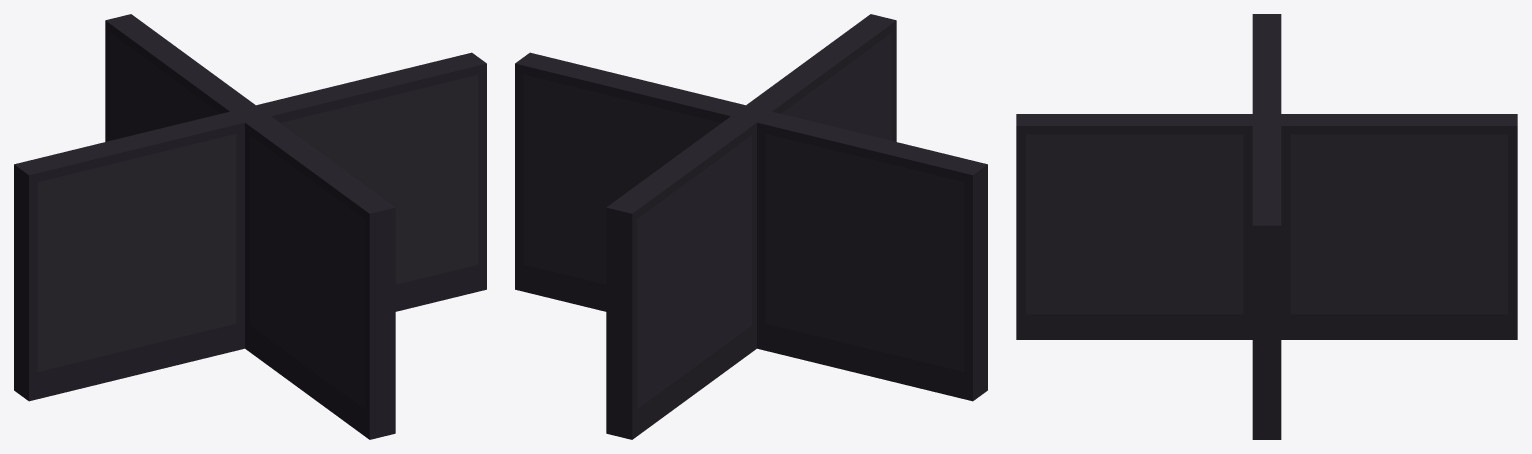
Rendered from wall_cross.glb.
3 renders of one model, left to right at view 1: azimuth 30°, elevation 25°; view 2: azimuth 150°, elevation 25°; view 3: azimuth 270°, elevation 25°, orthographic. The views are drawn at different scales.
Parts seen in each view (by area): view 1: Untitled; view 2: Untitled; view 3: Untitled.
Boxes of the visible parts, box(x1,y1,x2,y2) form: Untitled: box(14, 14, 486, 439); Untitled: box(515, 14, 987, 439); Untitled: box(1016, 14, 1517, 439).
Bounding box in the file's own units: 5.3 × 2.5 × 5.3.
Materials: 1 (1 with a texture image).
